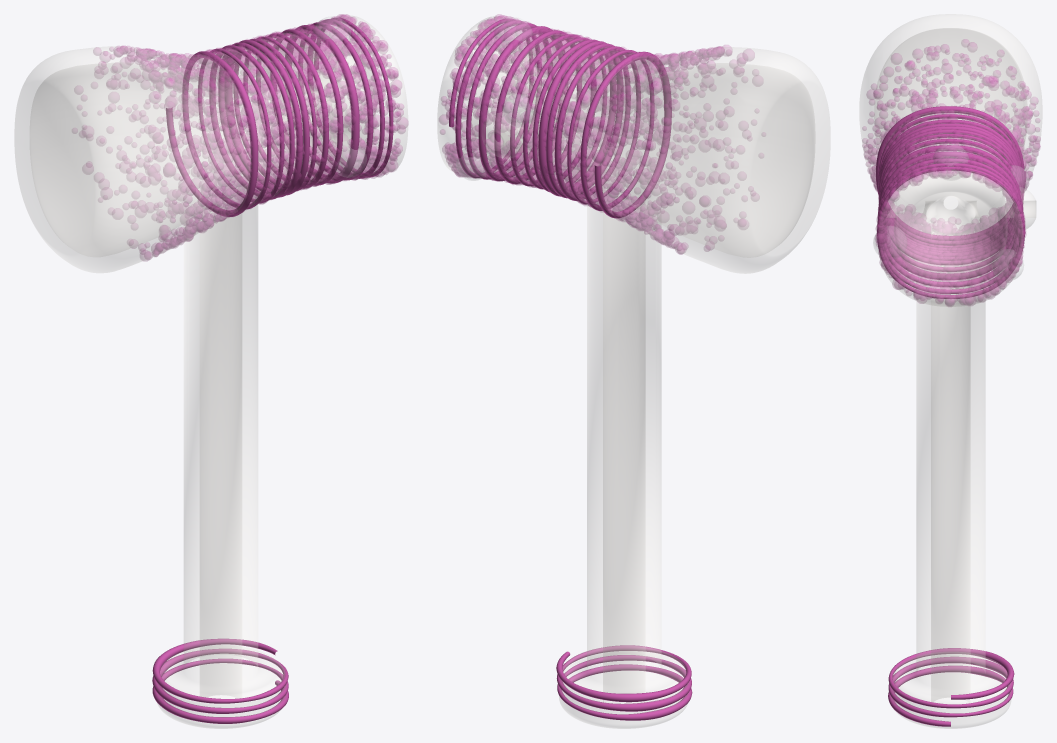
The model's file is hammer_clear_gold.glb.
The picture shows the model from 3 angles, left to right: view 1: azimuth 30°, elevation 25°; view 2: azimuth 150°, elevation 25°; view 3: azimuth 270°, elevation 25°; orthographic projection. The views are drawn at different scales.
Visible parts, largest first — view 1: body, frit, lines, marbles; view 2: body, frit, lines, marbles; view 3: body, frit, lines, marbles.
Part boxes in pixels (x1,y1,x2,y2): body: [14, 16, 407, 728]; frit: [81, 14, 408, 261]; lines: [152, 17, 393, 723]; marbles: [258, 16, 366, 177]; body: [437, 16, 830, 728]; frit: [439, 14, 758, 254]; lines: [449, 18, 692, 720]; marbles: [456, 17, 534, 180]; body: [859, 14, 1042, 728]; frit: [862, 39, 1040, 306]; lines: [876, 106, 1026, 726]; marbles: [873, 144, 1028, 279].
Size of the model in its own units: 0.0682 by 0.1398 by 0.0371.
